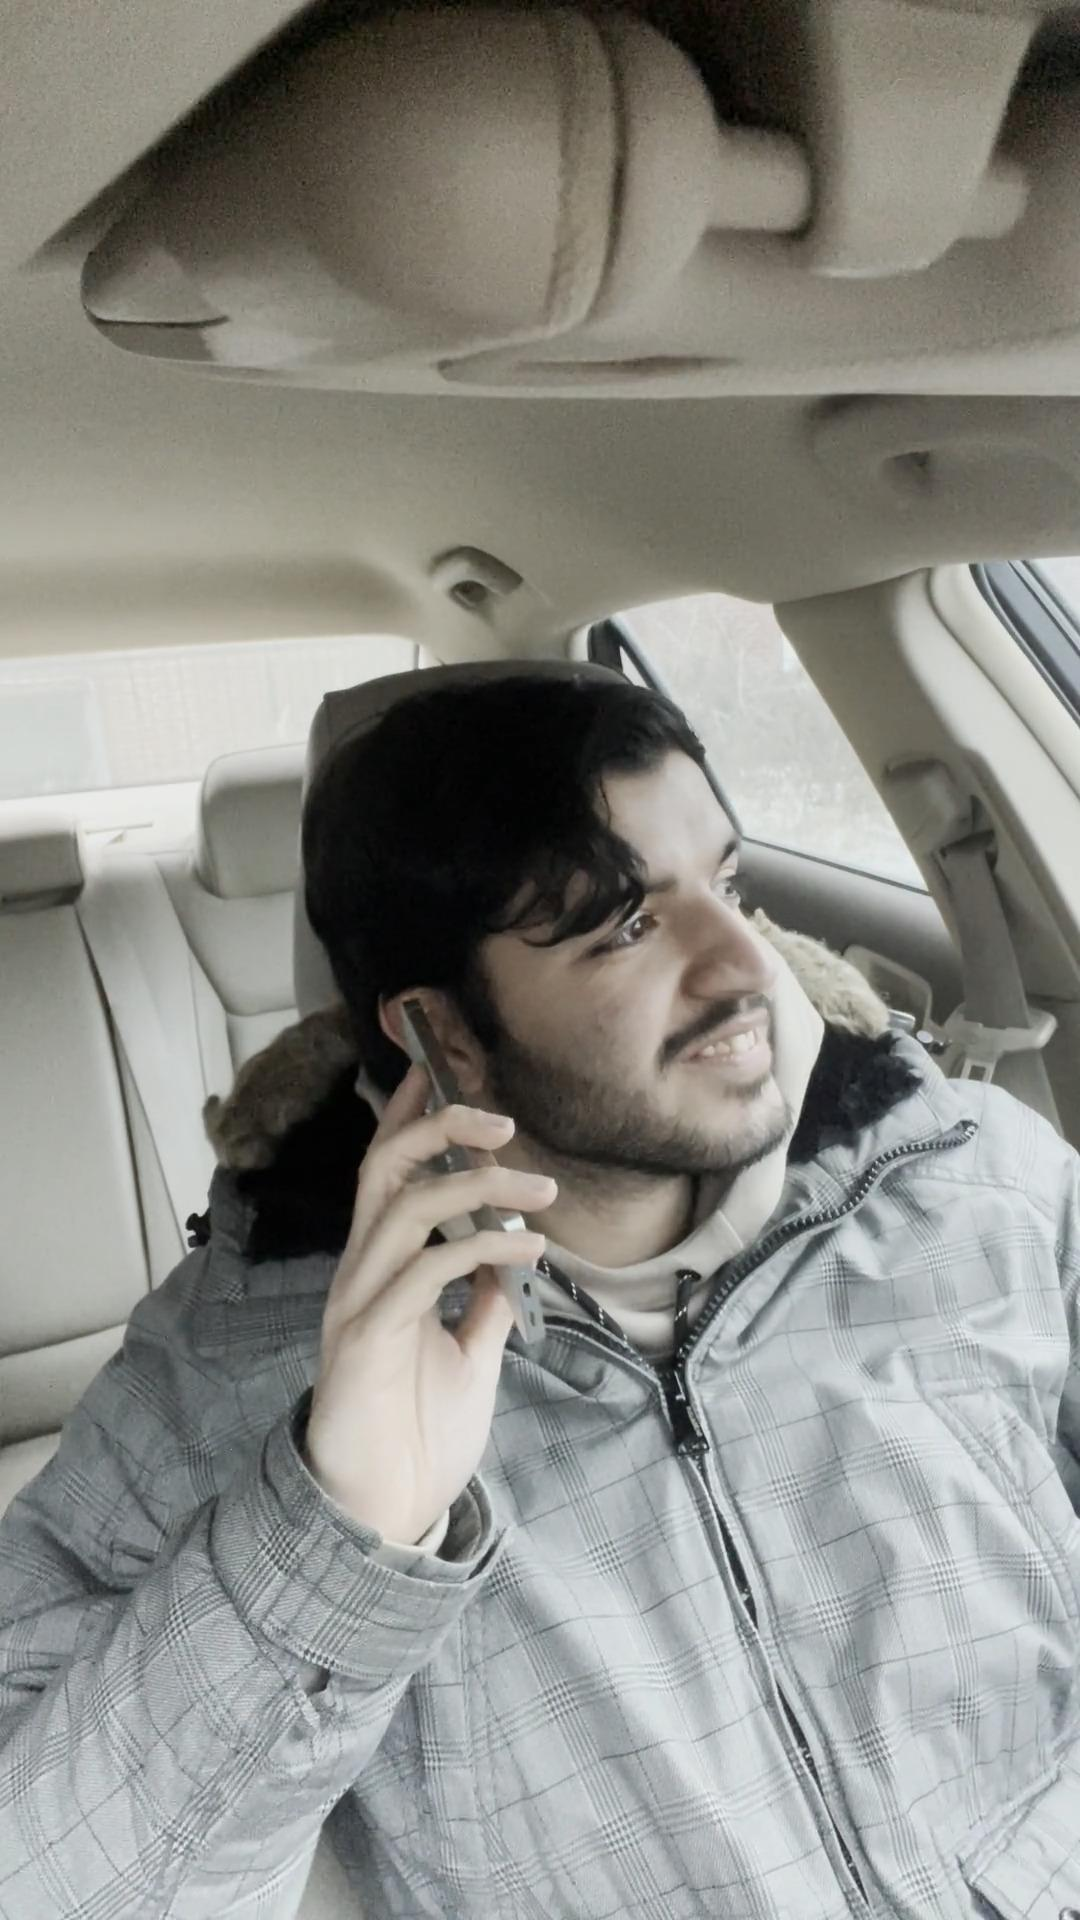inattentive: (305, 684, 790, 1211)
mobile: (371, 1000, 564, 1379)
no_seatbelt: (455, 1095, 1080, 1920)
